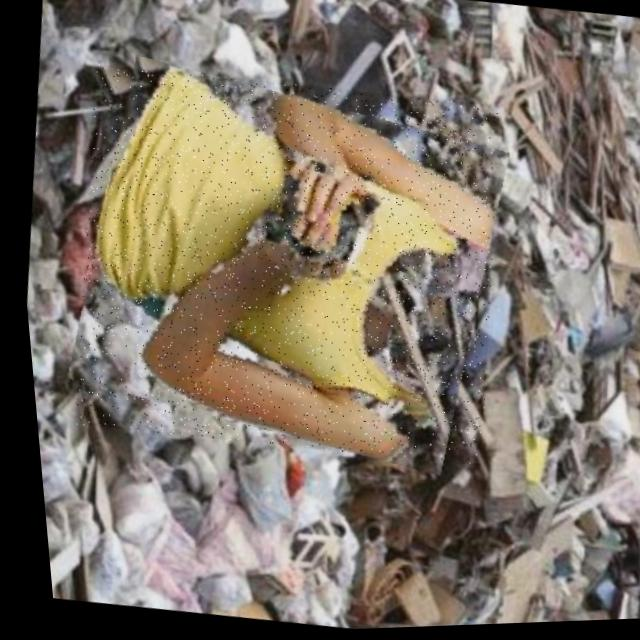Person in Rubble: (43, 53, 522, 481)
